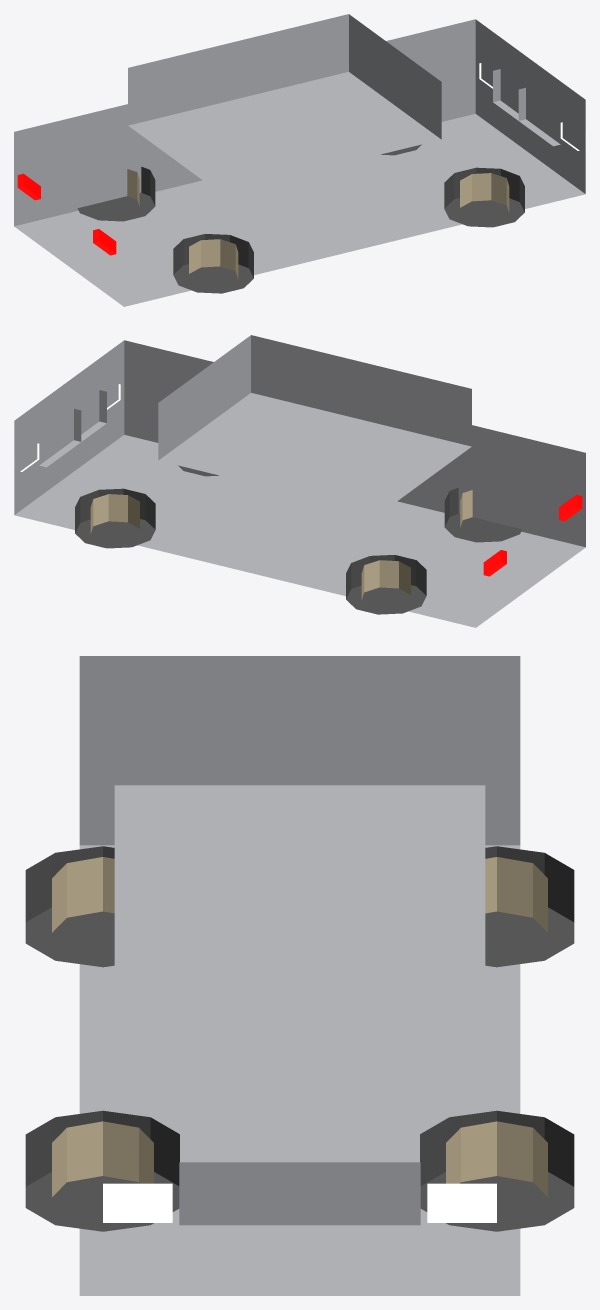
The model's file is scene-nano.glb.
3 renders of one model, top to bottom at view 1: azimuth 30°, elevation 25°; view 2: azimuth 150°, elevation 25°; view 3: azimuth 270°, elevation 25°, orthographic. The views are drawn at different scales.
Bounding box in the file's own units: 4.73 × 1.33 × 2.37.
